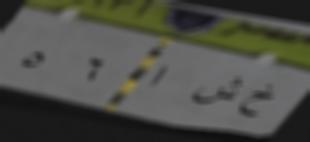5: (11, 45, 55, 74)
6: (80, 53, 108, 89)
alif: (149, 60, 174, 94)
khaa: (238, 82, 280, 123)
sheen: (188, 76, 239, 116)
